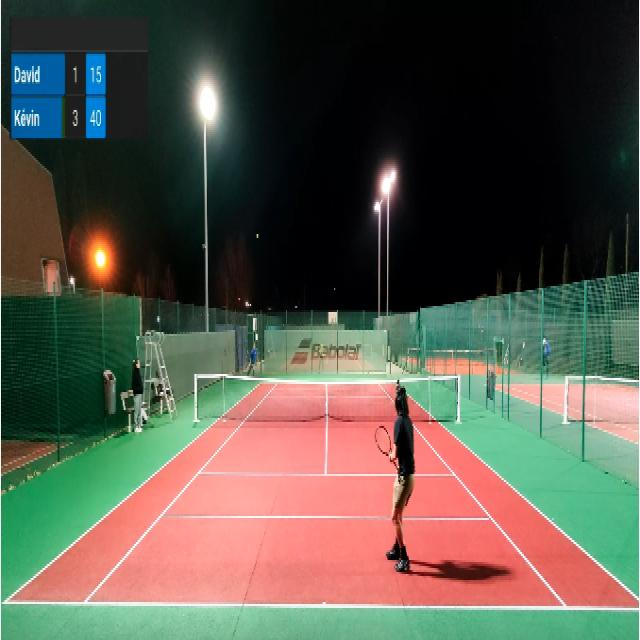ball: (256, 232, 259, 240)
